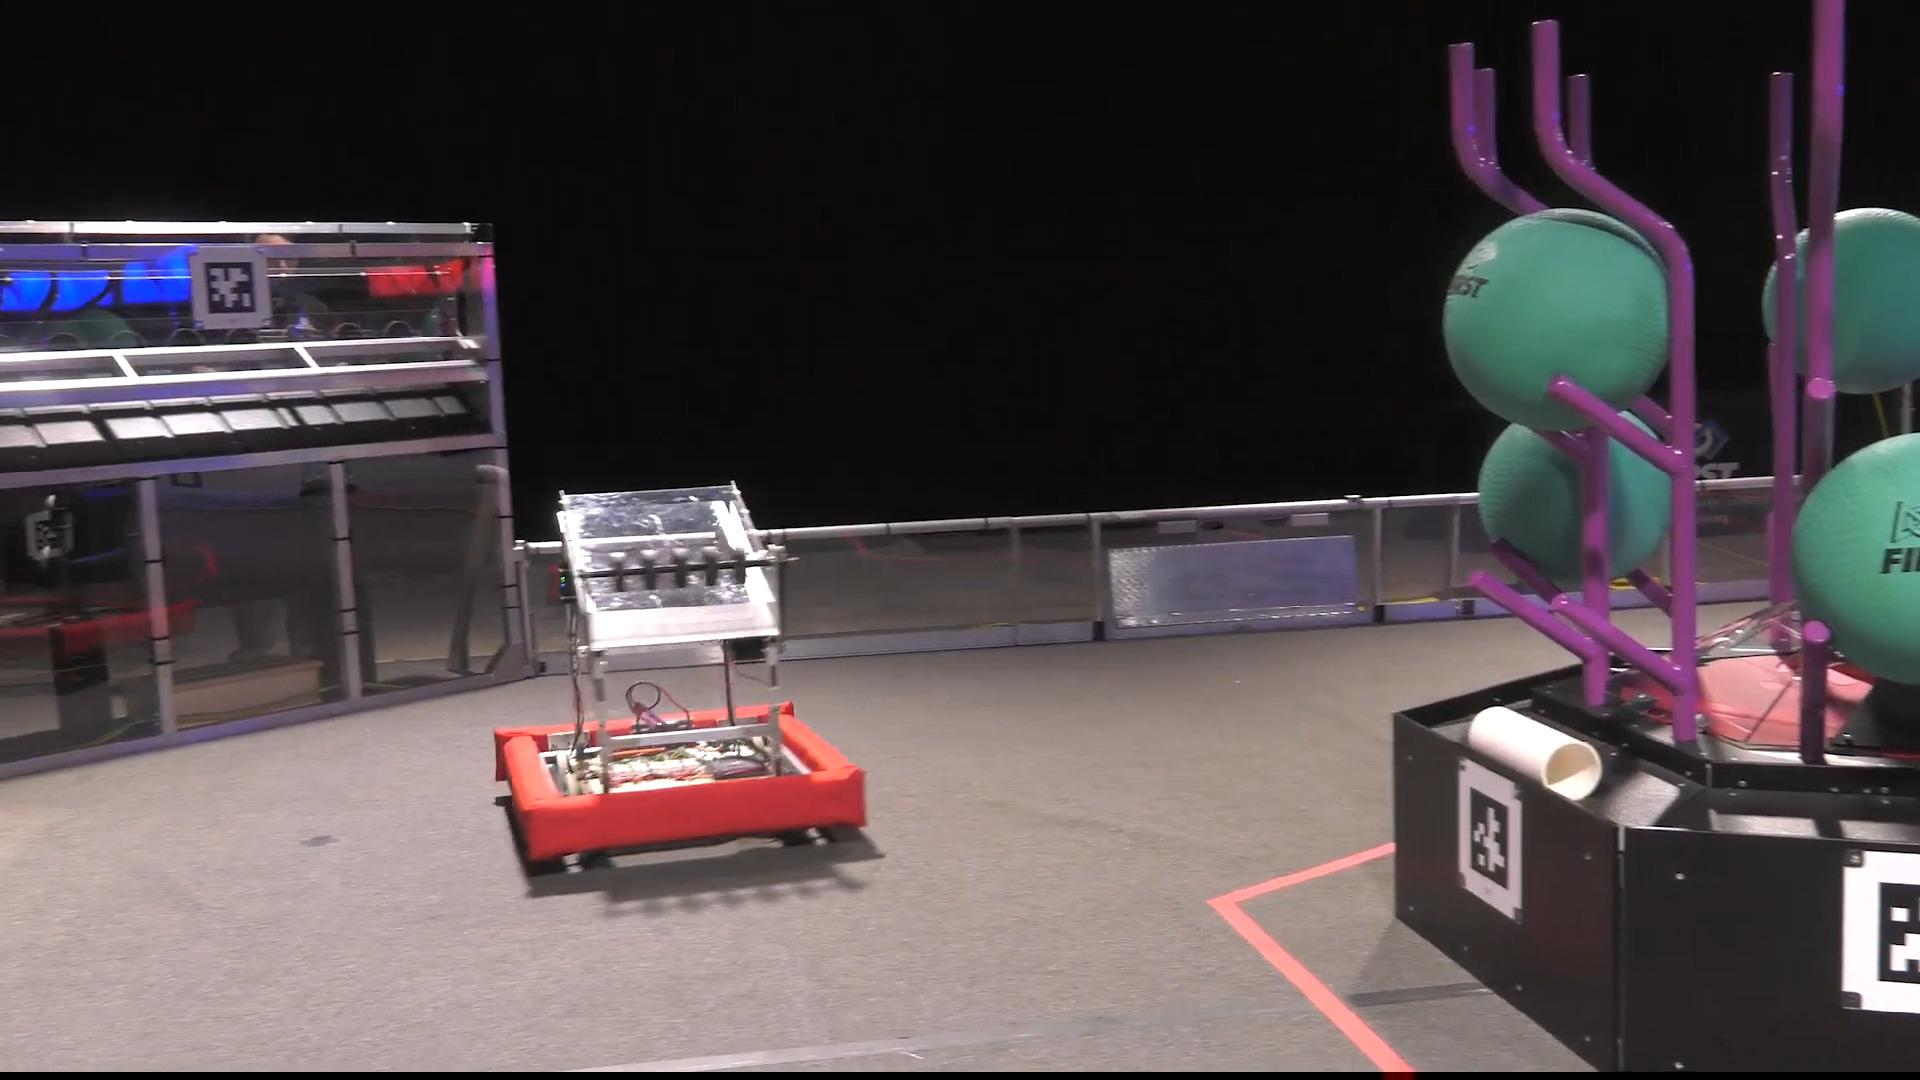coral: (1464, 703, 1604, 802)
